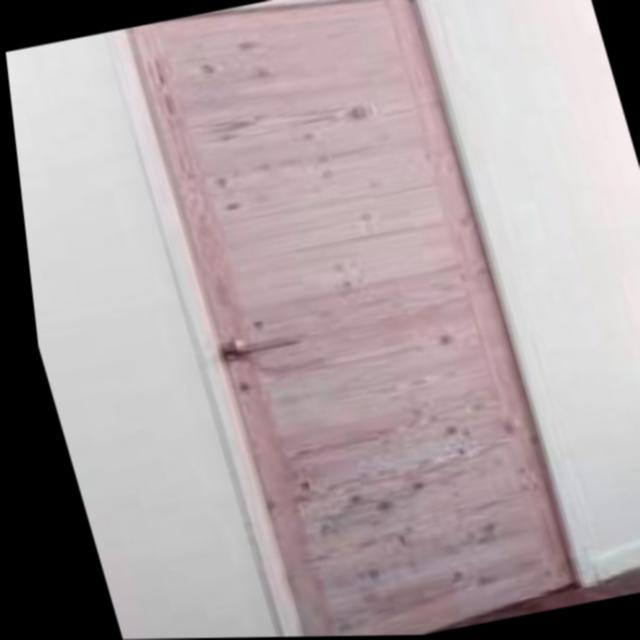door_handle: (201, 319, 309, 370)
